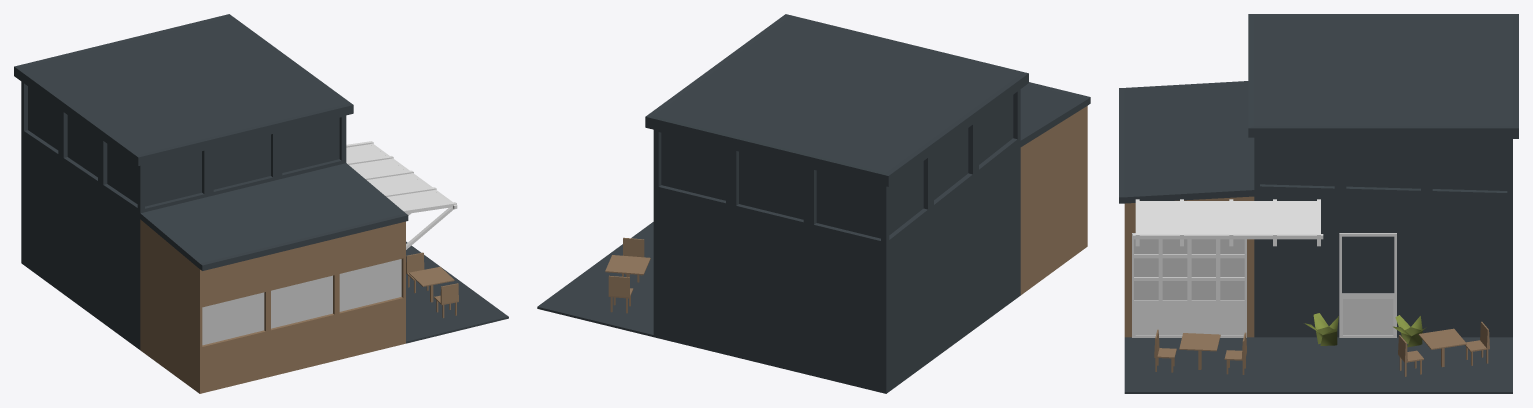
File: cafe.gltf
3 renders of one model, left to right at view 1: azimuth 30°, elevation 25°; view 2: azimuth 150°, elevation 25°; view 3: azimuth 270°, elevation 25°, orthographic. The views are drawn at different scales.
Parts seen in each view (by area): view 1: cafe_0; view 2: cafe_0; view 3: cafe_0.
Boxes of the visible parts, x1=… form: cafe_0: x1=14, y1=14, x2=508, y2=393; cafe_0: x1=537, y1=14, x2=1090, y2=393; cafe_0: x1=1119, y1=14, x2=1518, y2=393.
Size of the model in its own units: 2.03 by 1.23 by 2.06.
